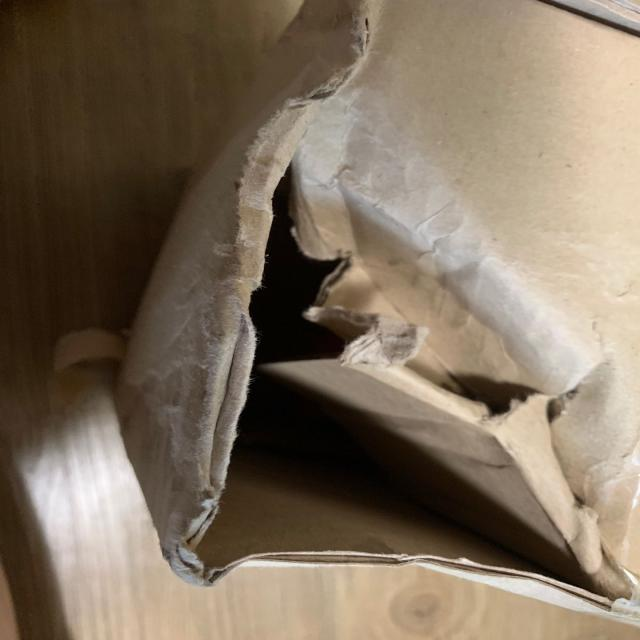damaged: (216, 173, 620, 612)
